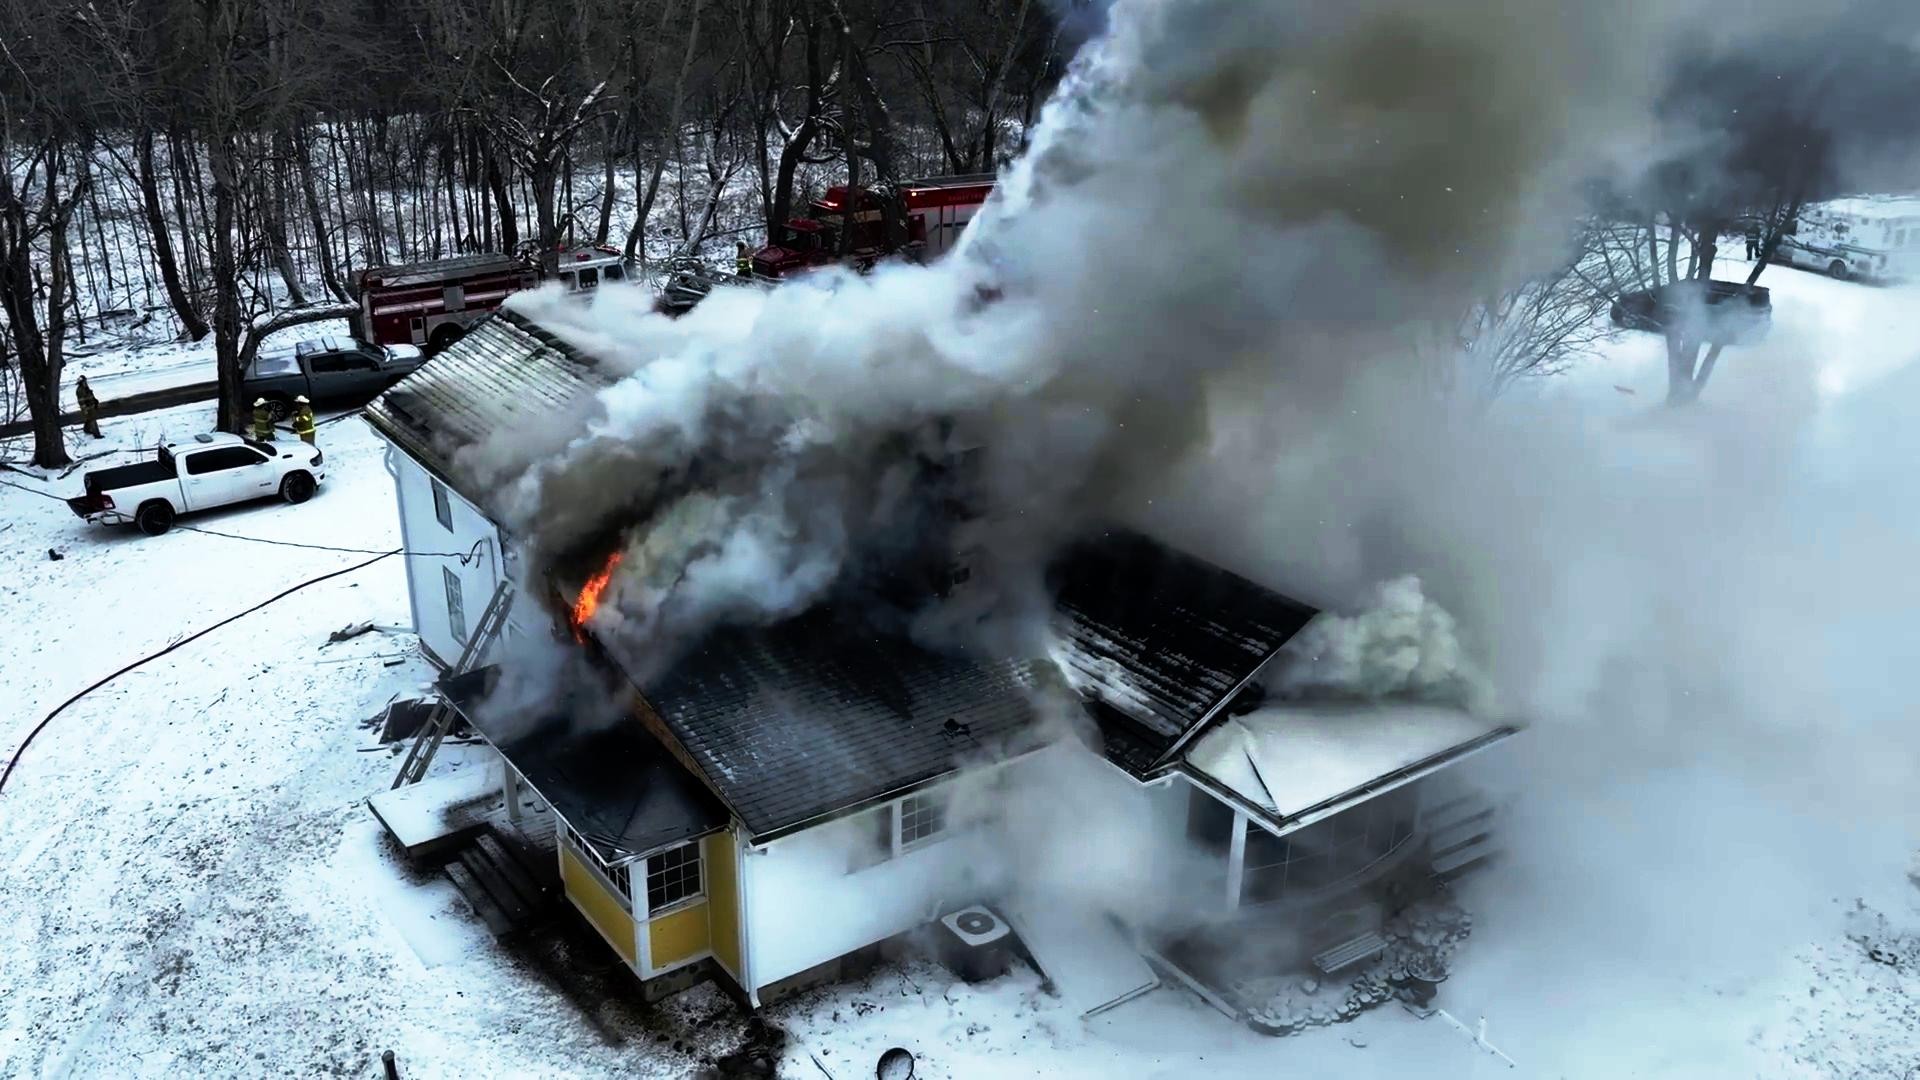fire: (568, 563, 629, 638)
smoke: (745, 261, 1369, 527)
